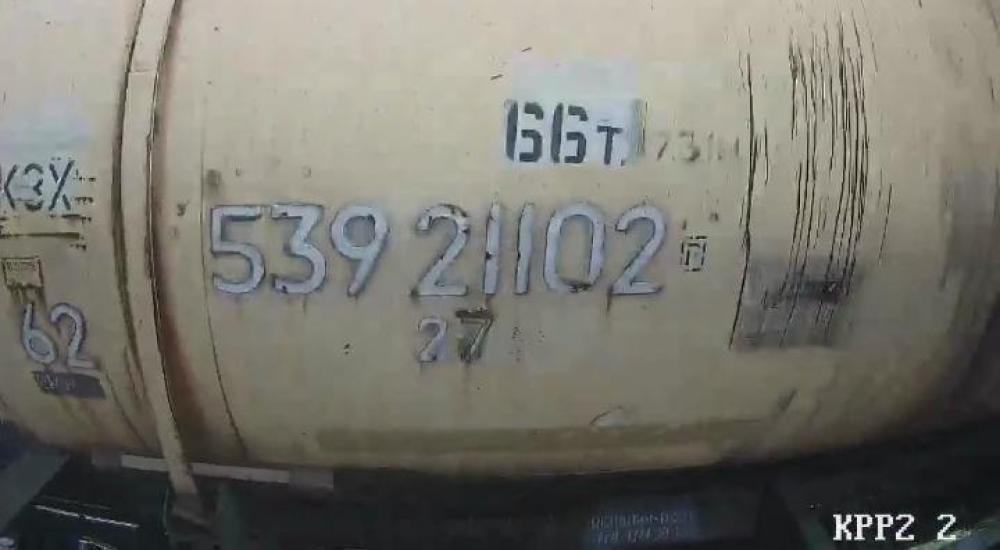Wagon-number: (204, 198, 668, 306)
